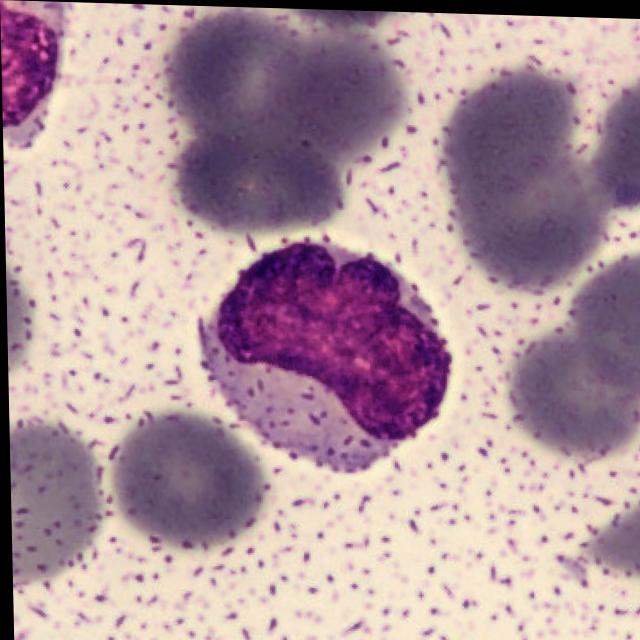Mieloblasto: (196, 240, 452, 472)
